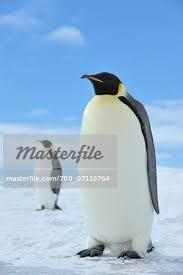emporer: (63, 58, 164, 269)
